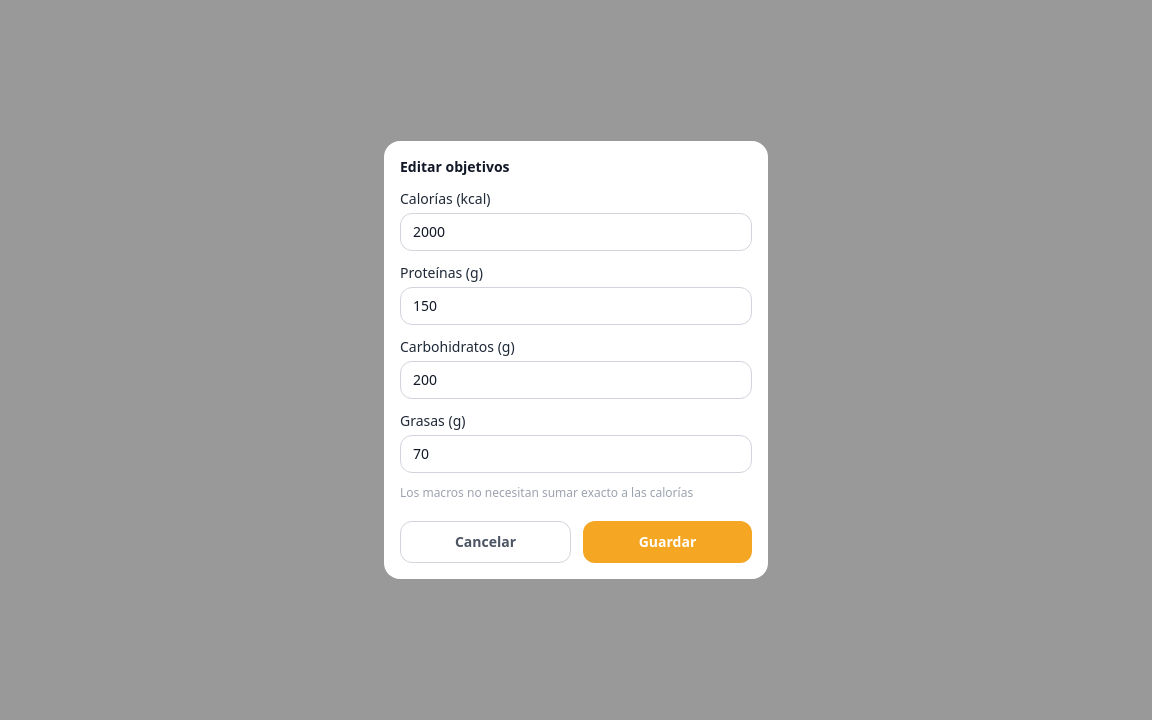
Test: GoalEditorSheet › blocks submit when a value exceeds the upper bound
Replace the text in the number field labelled "Calorías (kcal)" with "99999" at (576, 232), box [400, 213, 752, 251]
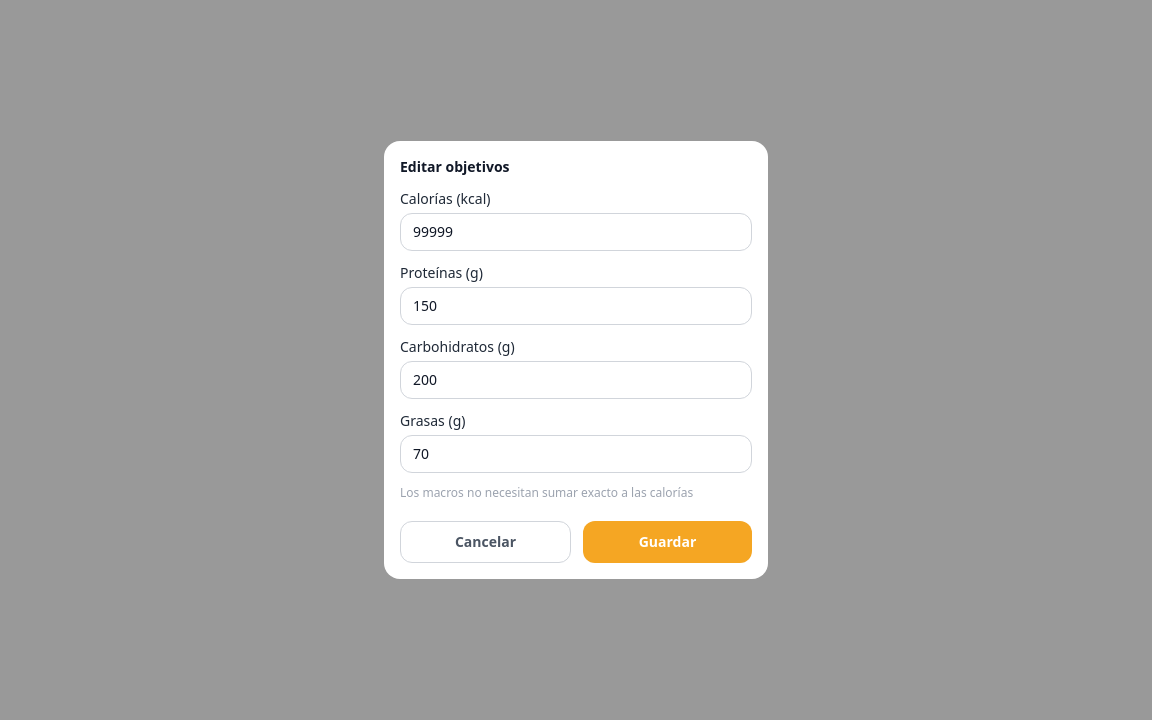
Click the button "Guardar" at (668, 542), box [583, 521, 752, 563]
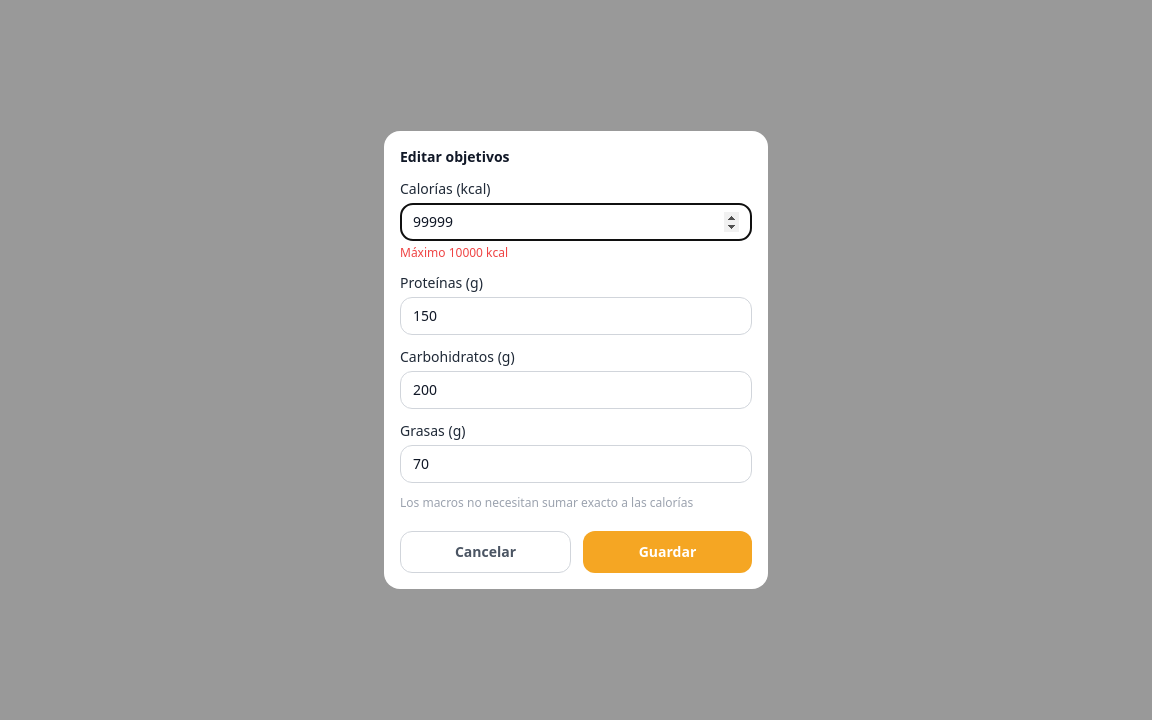
Expected: the text "Máximo 10000 kcal" is shown, [400, 244, 508, 261]
